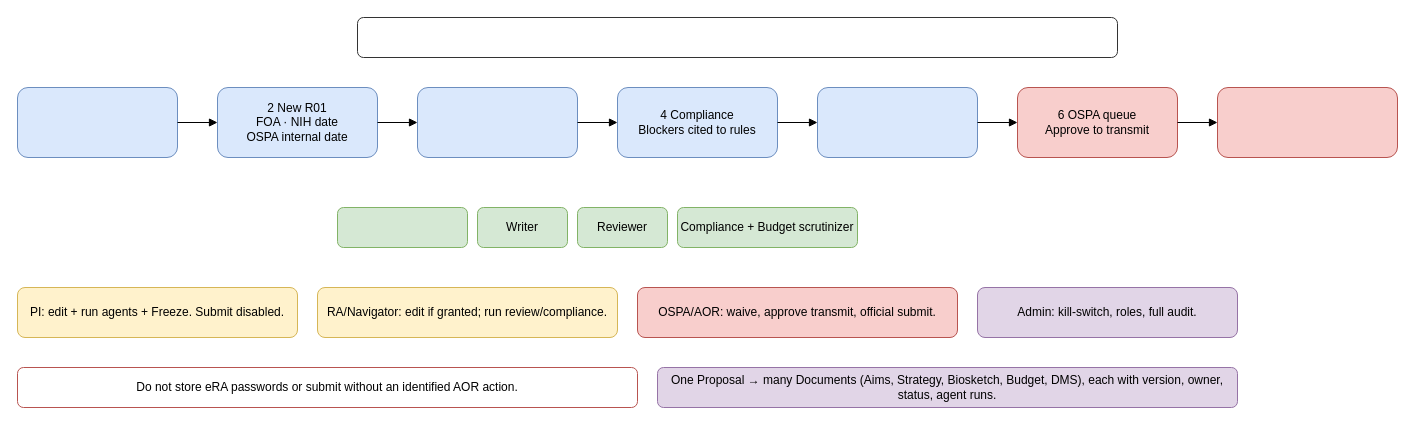
The diagram is 1415 pixels wide and 425 high, and some of its shapes have lost their labels. The shapes that lost their labels are listed below. From the top down, each one's centre as x and y in pixels, then its label:
the point at 737,37: NIH R01 — PI workbench journey (UI before implementation)
the point at 97,122: 1 Workbench Multiple proposals You are PI
the point at 497,122: 3 Proposal room Doc tree + editor + agent rail
the point at 897,122: 5 Package PI Freeze + version tag
the point at 1307,122: 7 Submission assistant AOR present + MFA tracking #
the point at 402,227: Knowledge Updater
